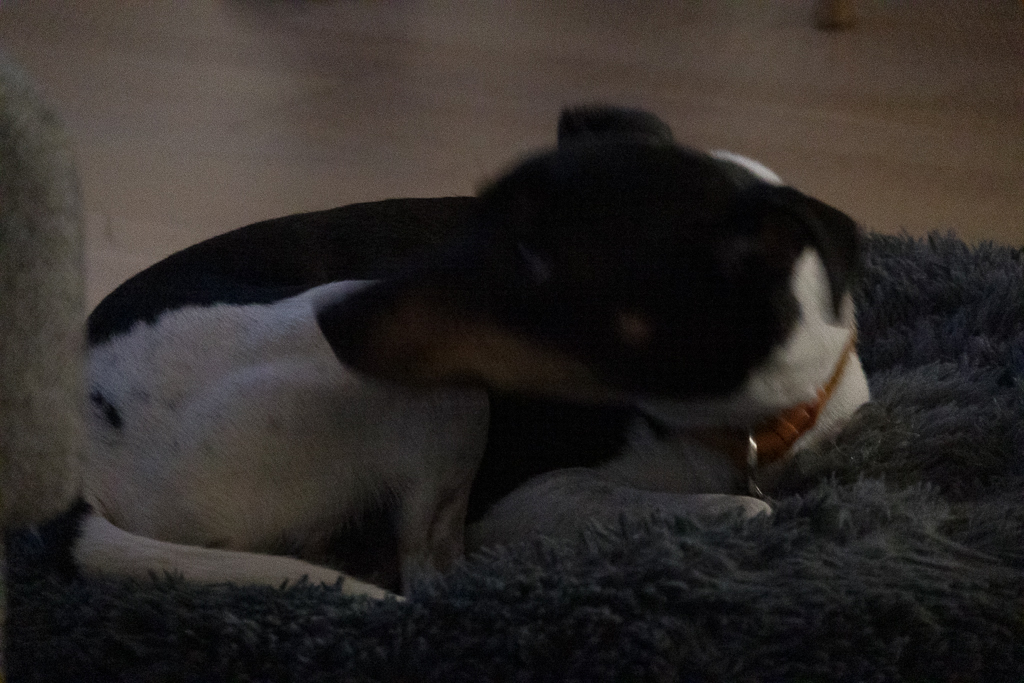Dog: (34, 92, 907, 627)
